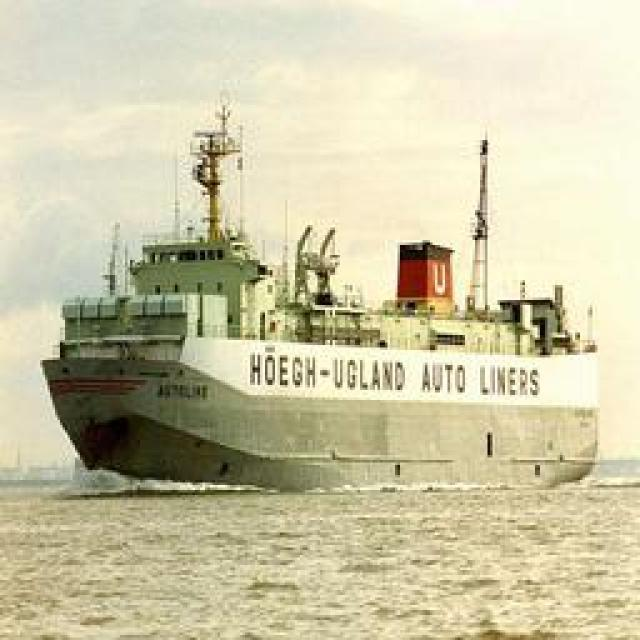CIV_Ship: (44, 231, 606, 494)
